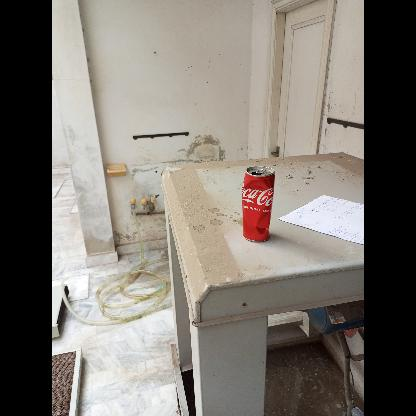Dent_Can: (242, 180, 270, 233)
Lid_Open: (252, 166, 268, 176)
Tin_Can: (241, 165, 275, 243)
